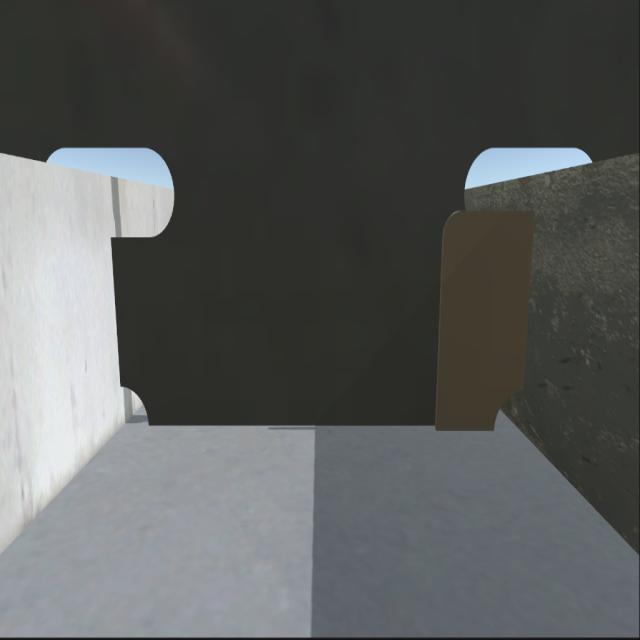fillet_hole: (116, 381, 156, 432), (492, 387, 529, 438)
fillet_yong_jeop_jang: (148, 407, 493, 435)
longi_yong_jeop_jang: (516, 204, 542, 392), (113, 234, 123, 384)
plate_CP05: (433, 199, 550, 434)
